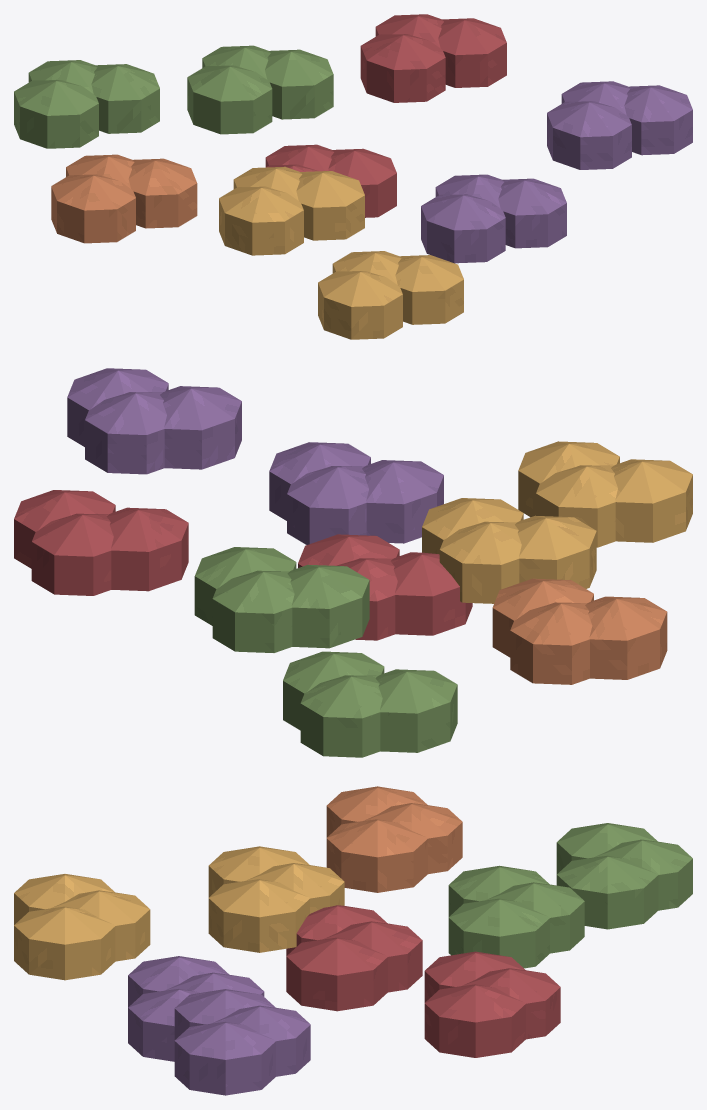
The model's file is candy4.glb.
3 views of the same model, one above another, from view 1: azimuth 30°, elevation 25°; view 2: azimuth 150°, elevation 25°; view 3: azimuth 270°, elevation 25° (orthographic). The views are drawn at different scales.
Visible parts, largest first — view 1: block_gummy candy silhouette (×26); view 2: block_gummy candy silhouette (×27); view 3: block_gummy candy silhouette (×27).
Part boxes in pixels (x1=…): block_gummy candy silhouette (×26): x1=14, y1=14, x2=692, y2=339; block_gummy candy silhouette (×27): x1=14, y1=368, x2=692, y2=757; block_gummy candy silhouette (×27): x1=14, y1=786, x2=692, y2=1095.
Bounding box in the file's own units: 0.0613 × 0.0112 × 0.0594.
1 material, 1 textured.
